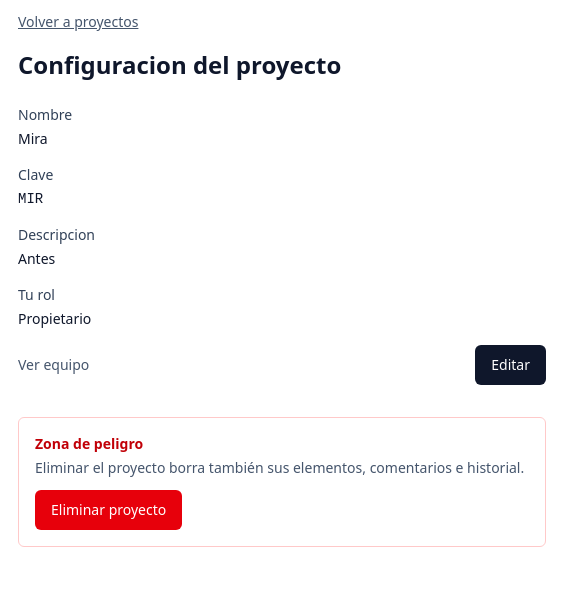
Test: ProjectSettingsPage › envia solo los campos que cambiaron y vuelve a la vista con los datos nuevos
Click the button "Editar". click: (511, 365)
box: [475, 345, 546, 385]
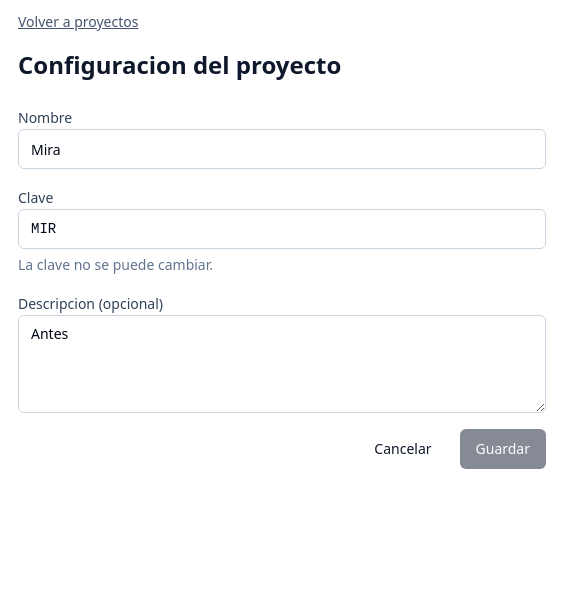
Replace the text in the text box labelled "Descripcion (opcional)" with "Despues". click: (282, 364)
box: [18, 315, 546, 413]
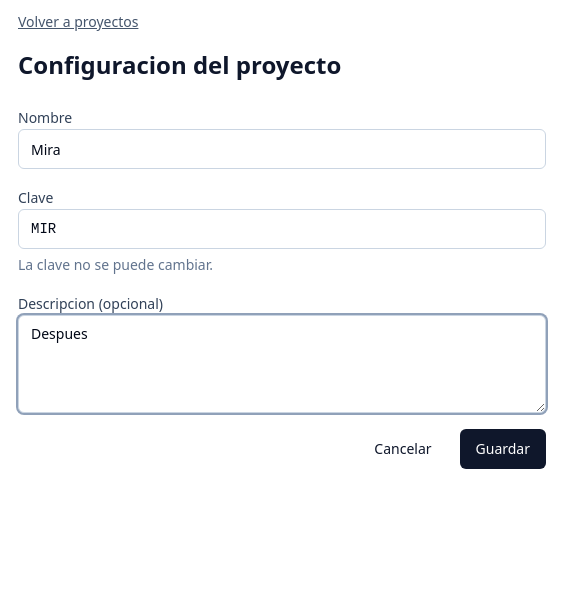
Click the button "Guardar". click: (503, 449)
box: [460, 429, 546, 469]
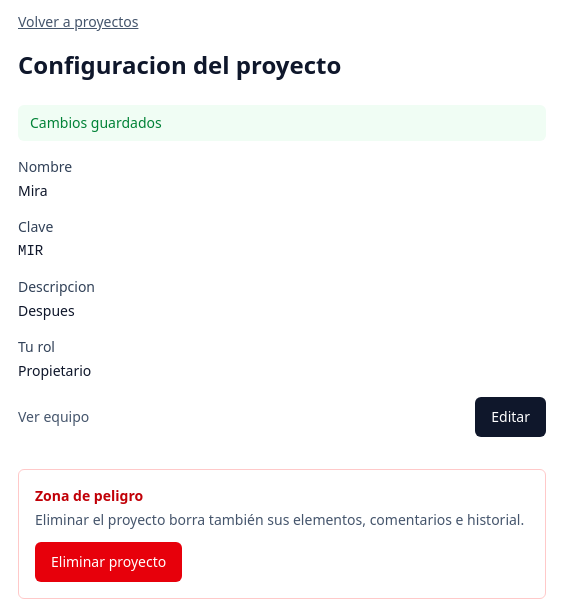
Expected: the message reads "Cambios guardados", [30, 113, 162, 132]
Expected: the text "Despues" is shown, [18, 301, 75, 320]
